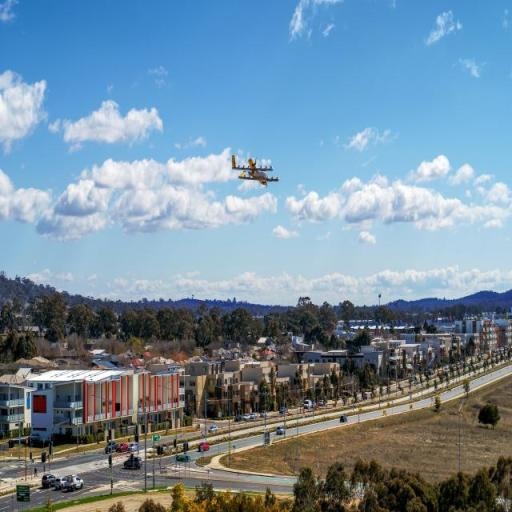uav: (227, 150, 285, 200)
